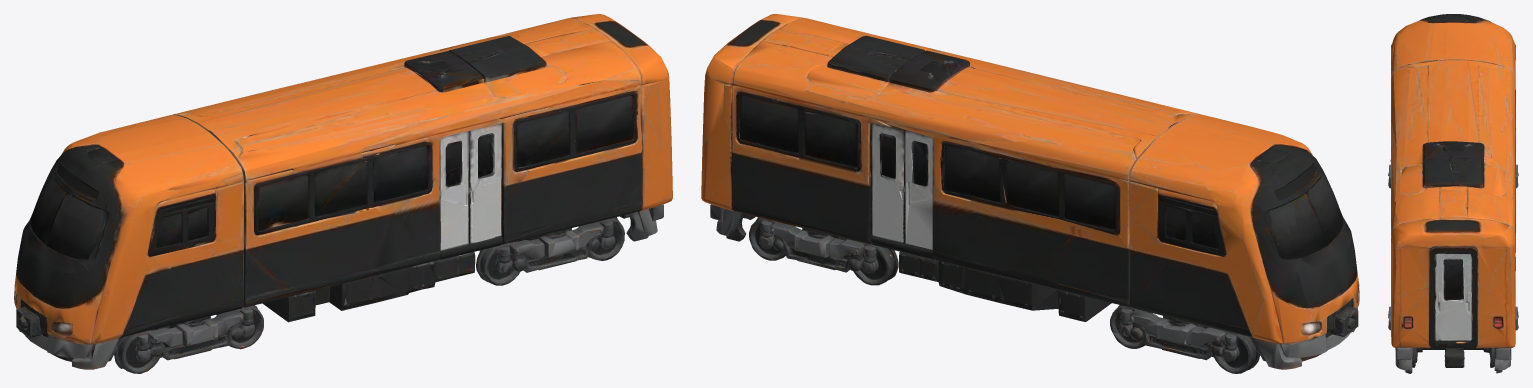
File: upm_mu5vzqat6gj.glb
The picture shows the model from 3 angles, left to right: view 1: azimuth 30°, elevation 25°; view 2: azimuth 150°, elevation 25°; view 3: azimuth 270°, elevation 25°; orthographic projection. The views are drawn at different scales.
Bounding box in the file's own units: 1.9 × 0.6027 × 0.4302.
1 material, 1 textured.
